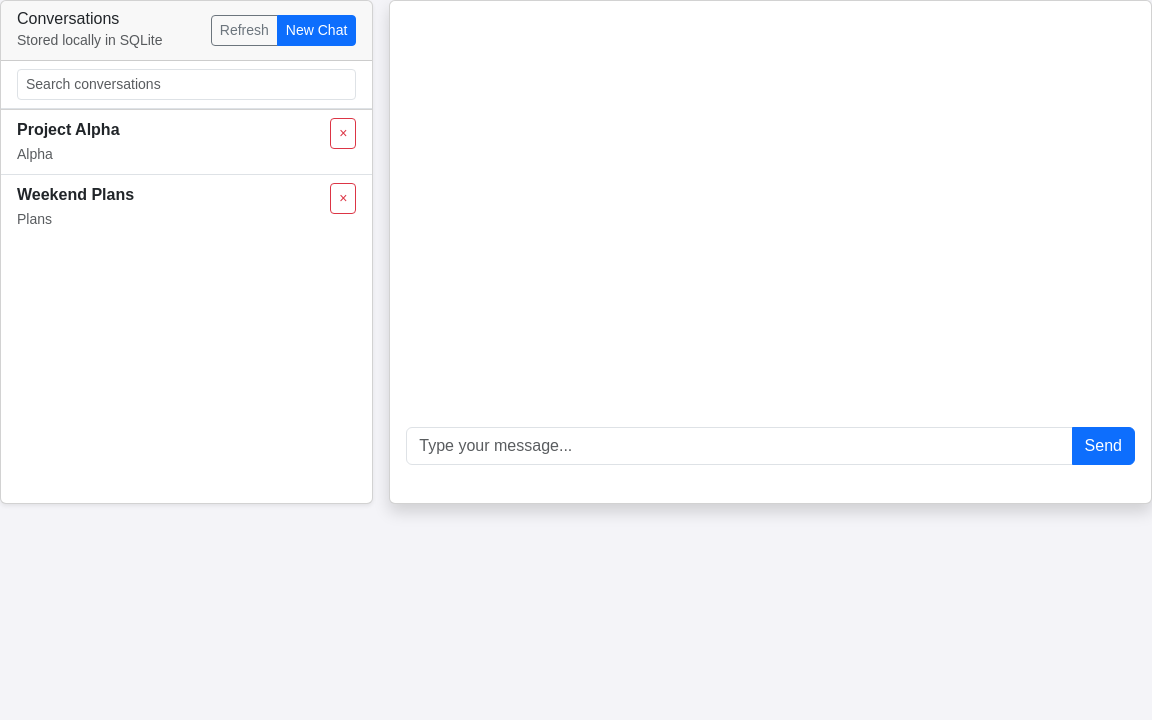
Test: ChatBox › filters session list based on search query
This screenshot has width=1152, height=720.
Check: the text "Project Alpha" is shown, box left=17, top=118, right=120, bottom=142
In the search field named "search chat sessions": [187, 85] box left=17, top=69, right=356, bottom=100, type "weekend"
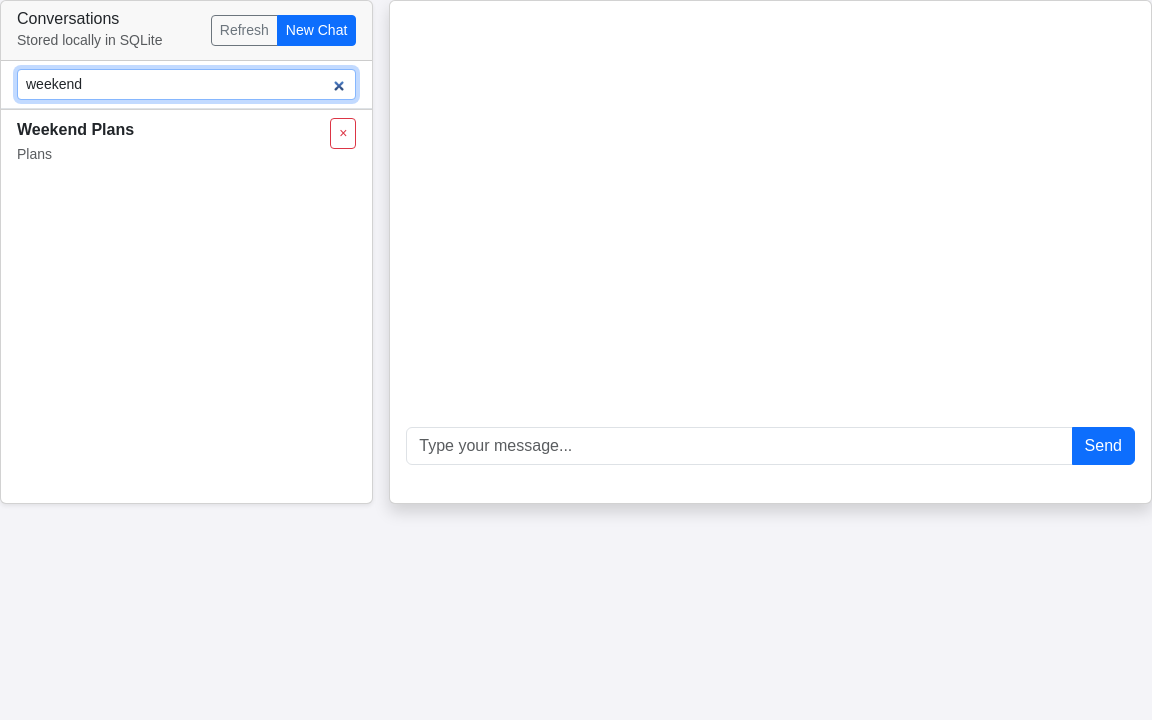
Check: the text "Weekend Plans" is shown, box left=17, top=118, right=134, bottom=142
Check: the button "Project Alpha" is gone
